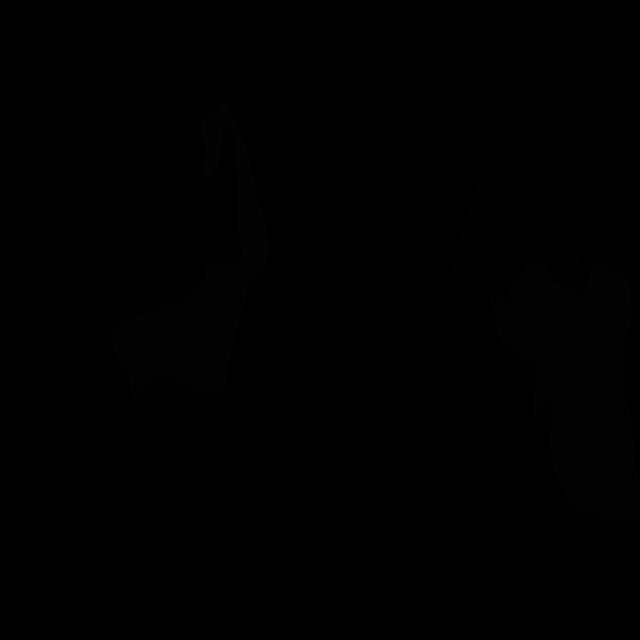cardboard: (484, 258, 640, 526), (112, 250, 248, 399)
metal: (200, 102, 270, 282)
rigid_plastic: (445, 167, 587, 311)
